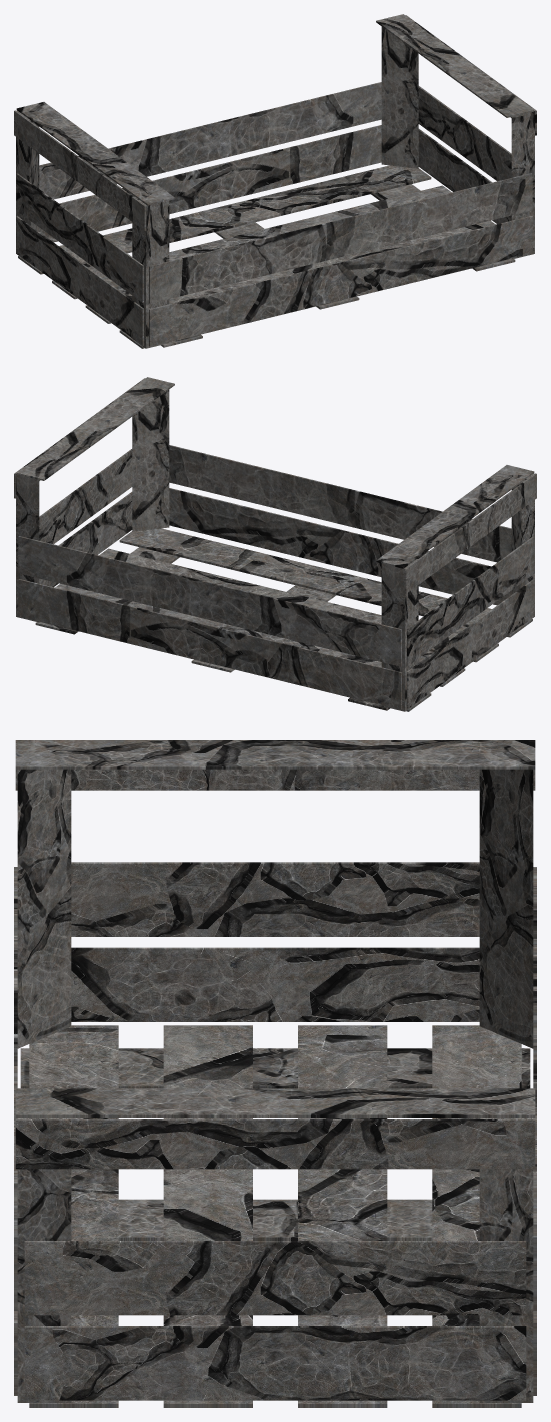
File: Crate-01.FBX
3 renders of one model, top to bottom at view 1: azimuth 30°, elevation 25°; view 2: azimuth 150°, elevation 25°; view 3: azimuth 270°, elevation 25°, orthographic. The views are drawn at different scales.
Parts seen in each view (by area): view 1: Crate-01; view 2: Crate-01; view 3: Crate-01.
Part boxes in pixels (left/top/right/bottom): Crate-01: left=14, top=14, right=536, bottom=348; Crate-01: left=14, top=377, right=536, bottom=711; Crate-01: left=14, top=740, right=536, bottom=1407.
Bounding box in the file's own units: 0.502 × 0.182 × 0.292.
